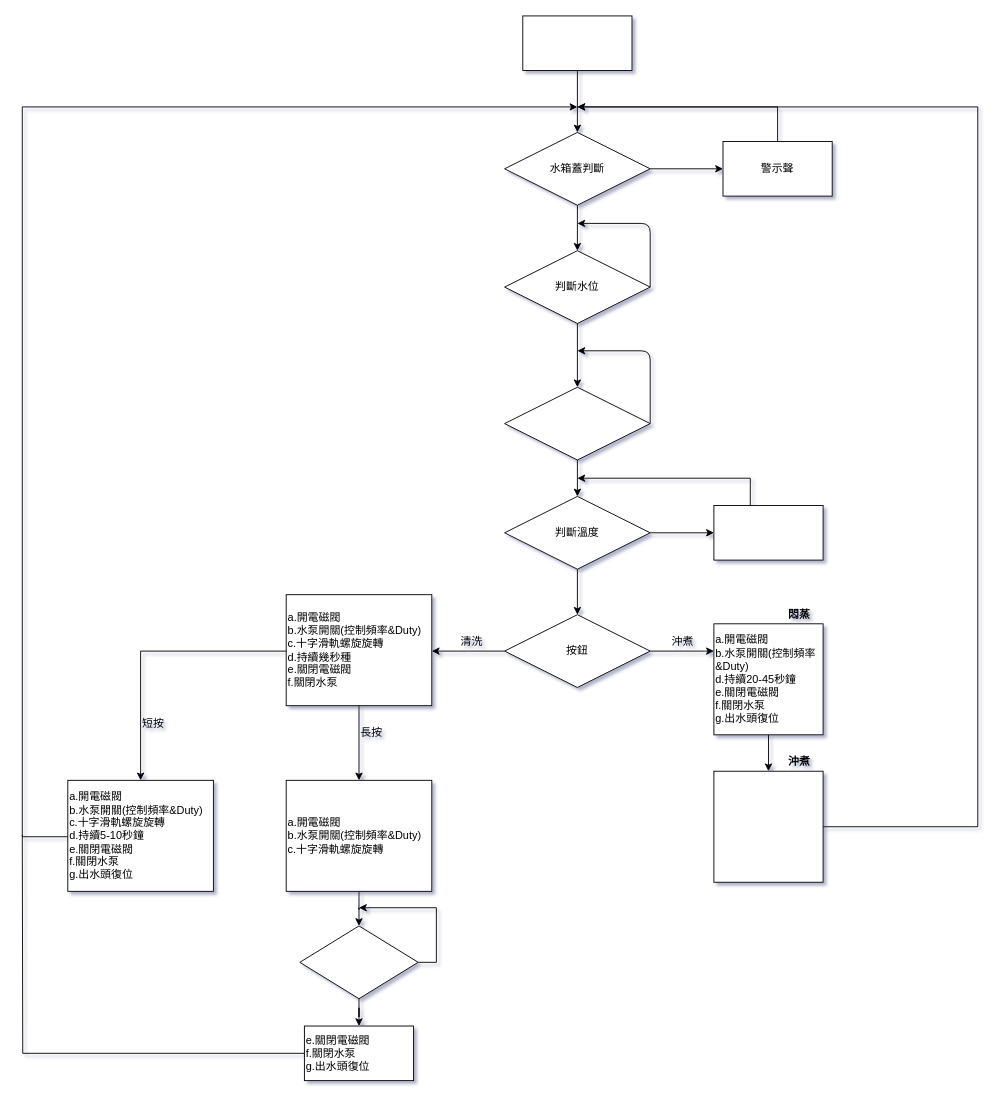
The diagram is 1006 pixels wide and 1102 high, and some of its shapes have lost their labels. The shapes that lost their labels are listed below. From the top down, each one's centre as x and y in pixels, then its label:
point 577,43: 開機
point 577,423: 是否待機模式
point 768,532: 加熱到指定溫度
point 768,826: a.開電磁閥 b.水泵開關(控制頻率&Duty) c.十字滑軌螺旋旋轉 d.持續100-120秒鐘 e.關閉電磁閥 f.關閉水泵 g.出水頭復位
point 358,962: 是否放開按鈕
